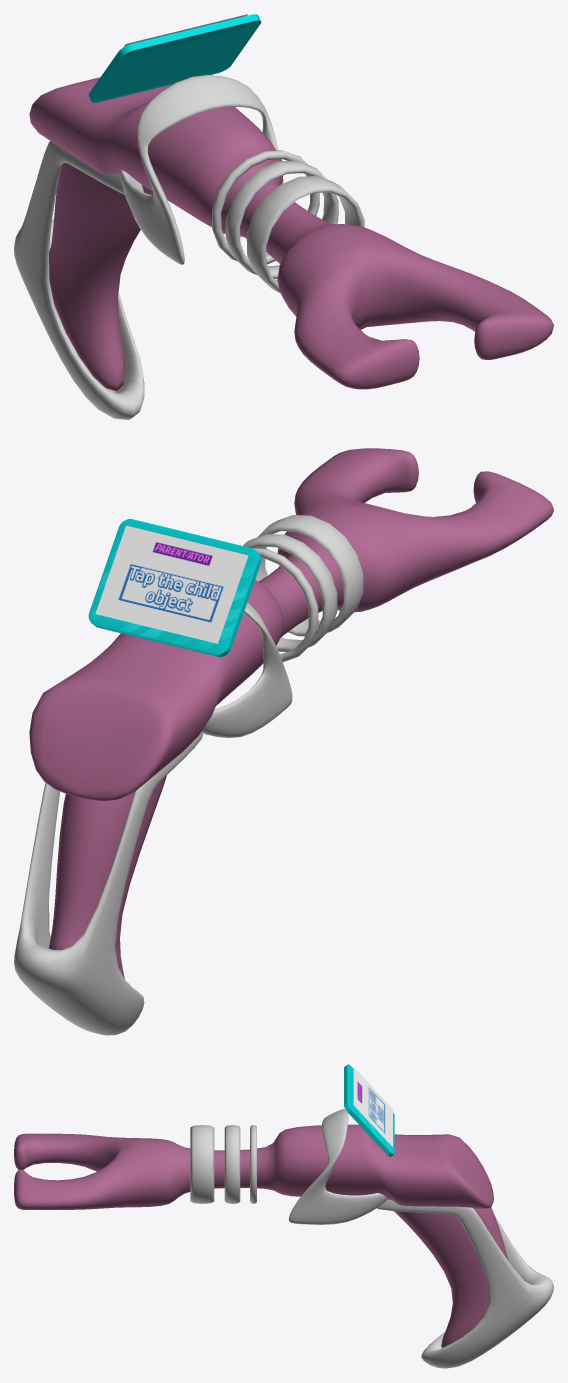
The model's file is Parent-Tool-Production.fbx.
3 renders of one model, top to bottom at view 1: azimuth 30°, elevation 25°; view 2: azimuth 150°, elevation 25°; view 3: azimuth 270°, elevation 25°, orthographic. The views are drawn at different scales.
Parts seen in each view (by area): view 1: Cylinder.001; view 2: Cylinder.001; view 3: Cylinder.001.
Part boxes in pixels (bbox=[...]): Cylinder.001: bbox=[14, 14, 553, 419]; Cylinder.001: bbox=[14, 448, 553, 1035]; Cylinder.001: bbox=[14, 1064, 553, 1368].
Bounding box in the file's own units: 18.83 × 36.39 × 62.83.
Materials: 4 (2 with a texture image).
